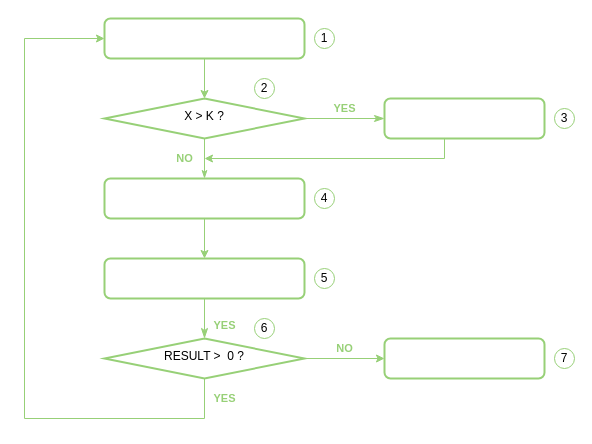
This 592x444 diagram has some shape labels left out. Here are the shapes that lost their labels. From the top down, the centre of each, then its label:
point 204,38: POINTER = FALSE
point 464,118: POINTER = TRUE
point 204,198: X = X + 1
point 204,278: CALL SUB (X, POINTER, RESULT)
point 464,358: PRINTRESULT
